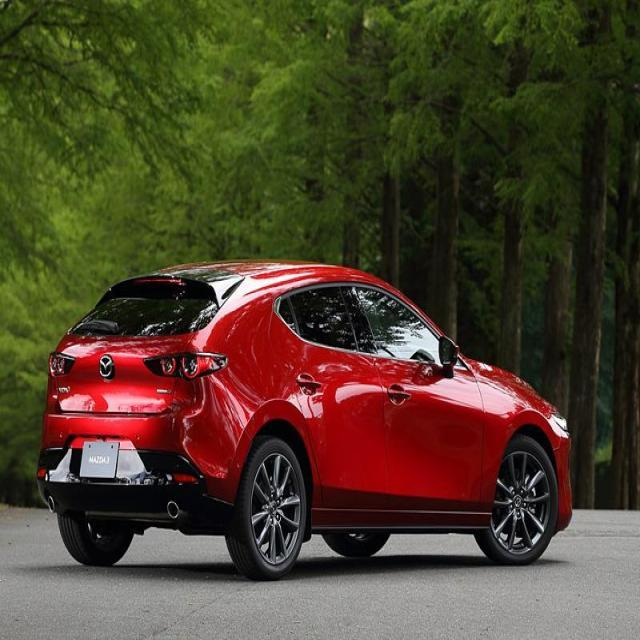Hatchback: (37, 261, 574, 582)
